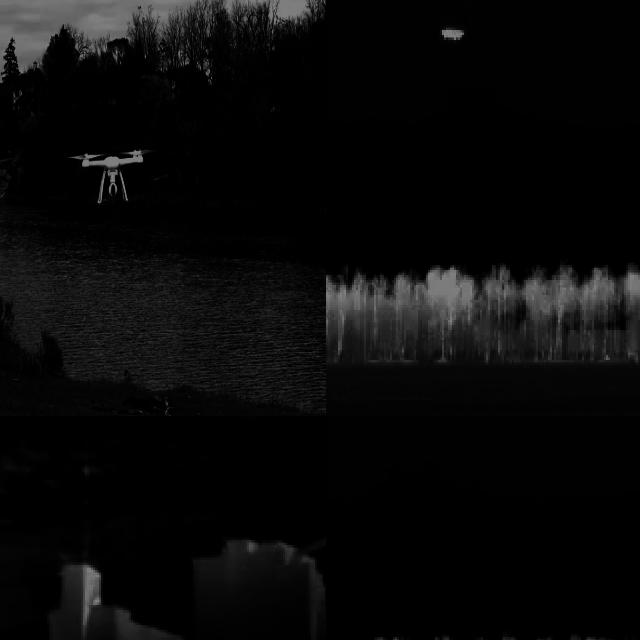1: (433, 20, 477, 52)
drone: (80, 149, 145, 210)
